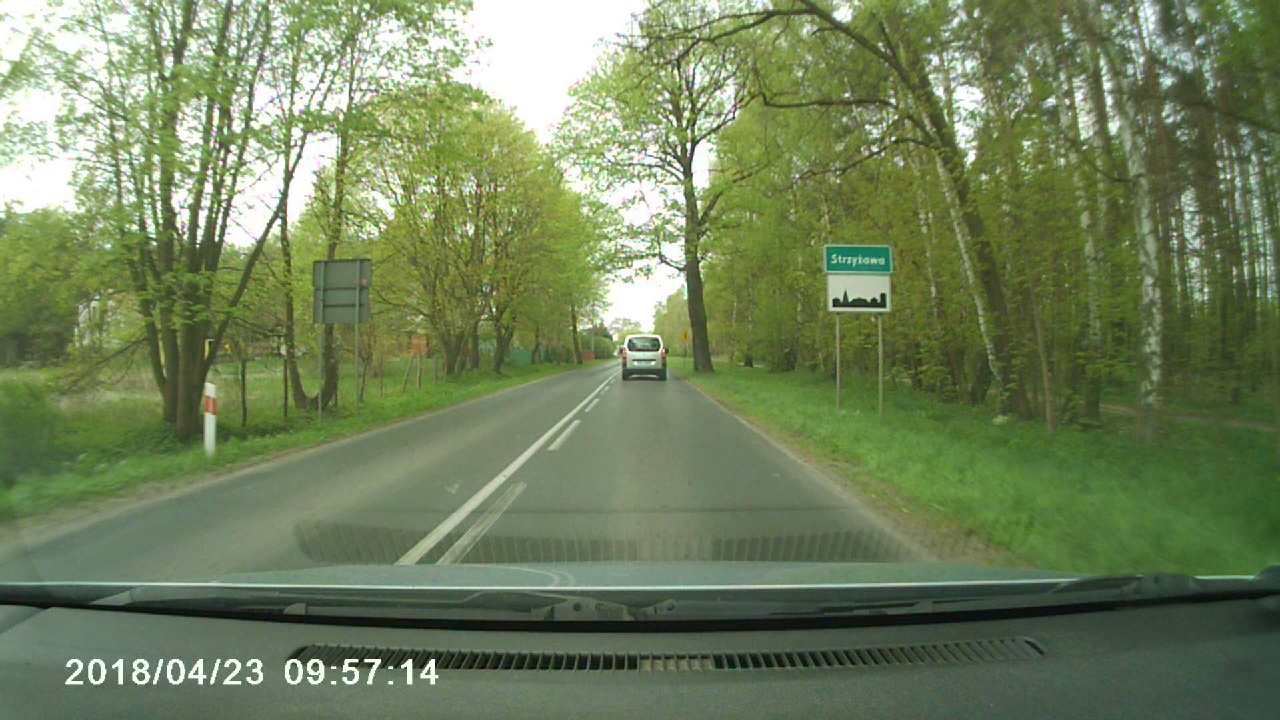D42: (823, 273, 893, 312)
